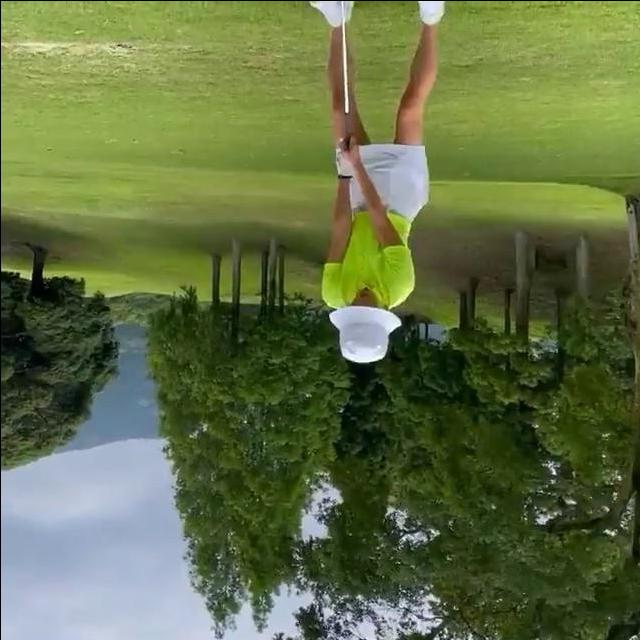golf club-handle: (336, 0, 354, 146)
